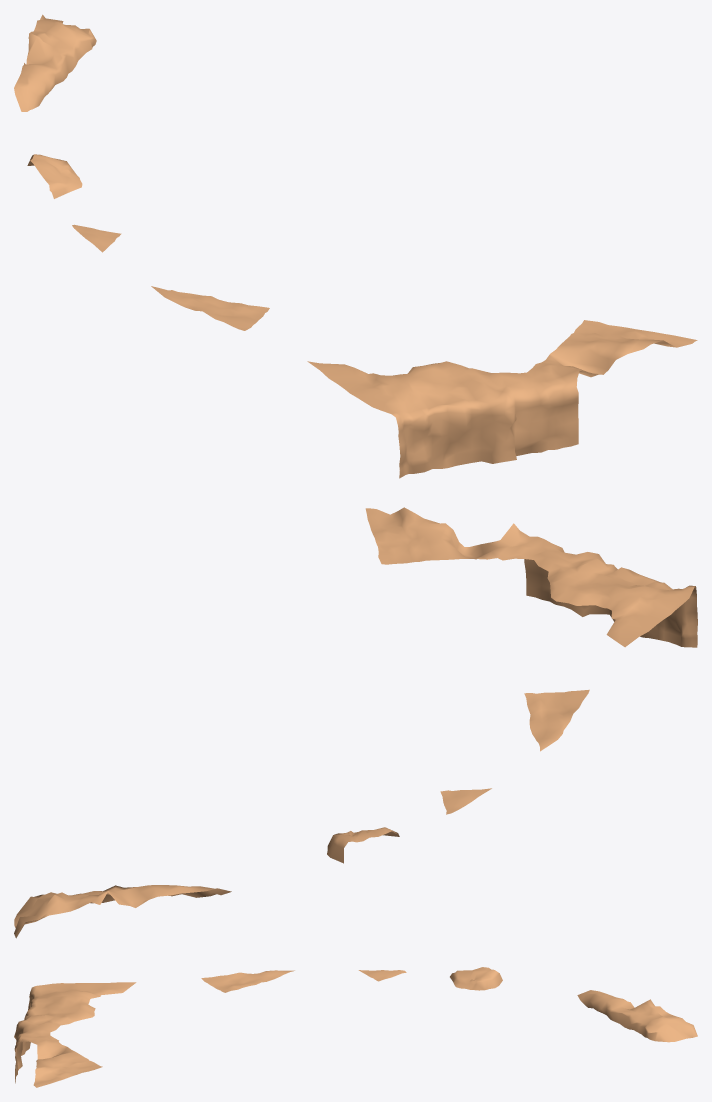
File: relief_8.low.fbx
3 renders of one model, top to bottom at view 1: azimuth 30°, elevation 25°; view 2: azimuth 150°, elevation 25°; view 3: azimuth 270°, elevation 25°, orthographic. The views are drawn at different scales.
Parts seen in each view (by area): view 1: relief.8.low; view 2: relief.8.low; view 3: relief.8.low.
Boxes of the visible parts, x1,y1,x2,y2 form: relief.8.low: [14, 14, 697, 478]; relief.8.low: [14, 507, 697, 938]; relief.8.low: [14, 967, 697, 1087].
Size of the model in its own units: 2439 by 581 by 5989.
